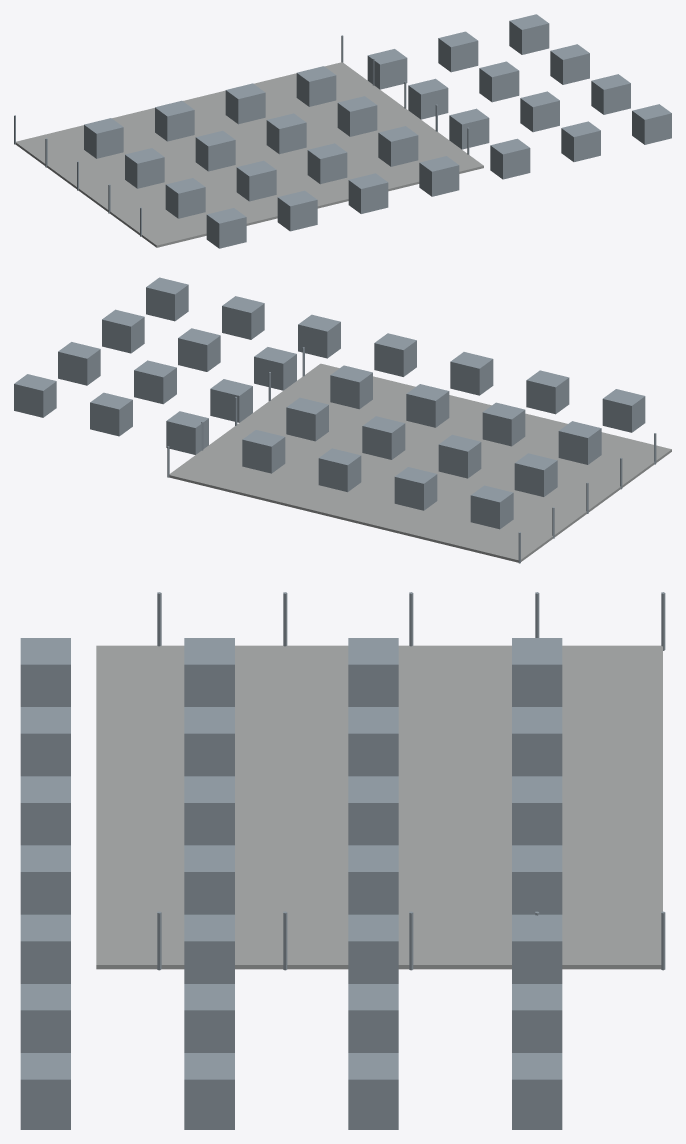
The picture shows the model from 3 angles, top to bottom: view 1: azimuth 30°, elevation 25°; view 2: azimuth 150°, elevation 25°; view 3: azimuth 270°, elevation 25°; orthographic projection. The views are drawn at different scales.
Visible parts, largest first — view 1: worldgen; view 2: worldgen; view 3: worldgen.
Part boxes in pixels (bbox=[...]): worldgen: bbox=[14, 14, 671, 248]; worldgen: bbox=[14, 277, 671, 563]; worldgen: bbox=[20, 592, 665, 1129].
Size of the model in its own units: 91.17 by 5 by 51.18.
